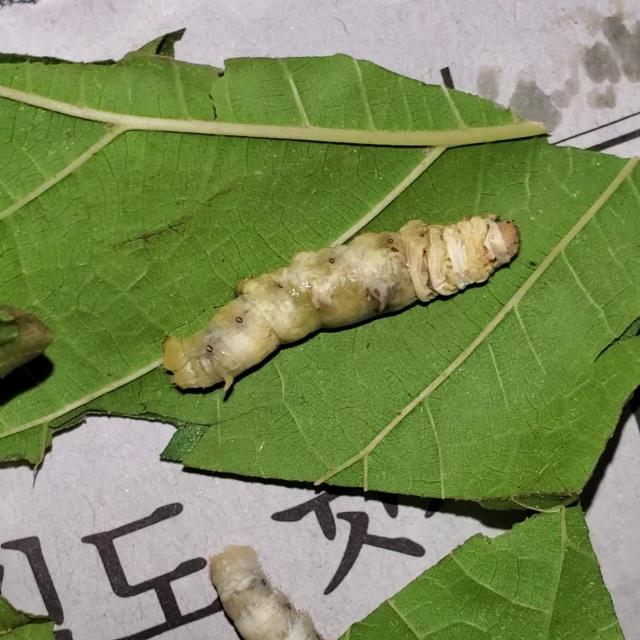Grasserie: (114, 171, 574, 420)
